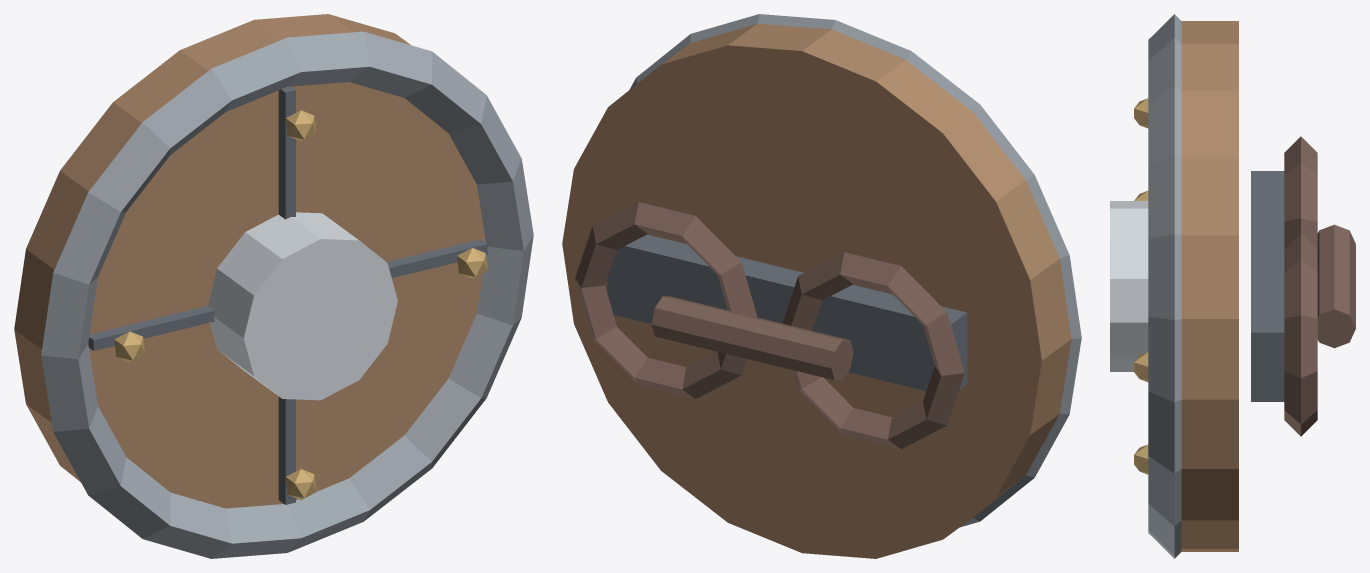
File: round_shield.glb
3 renders of one model, left to right at view 1: azimuth 30°, elevation 25°; view 2: azimuth 150°, elevation 25°; view 3: azimuth 270°, elevation 25°, orthographic. The views are drawn at different scales.
Visible parts, largest first — view 1: ShieldBody, IronRim, CentralBoss, PlankSeam_0, PlankSeam_1, Rivet_3.003, Rivet_0.025, Rivet_2.003, Rivet_1.025; view 2: ShieldBody, BackReinforcement, BackStrap_-0.24, BackStrap_0.24, HandGrip, IronRim; view 3: ShieldBody, IronRim, BackReinforcement, CentralBoss, BackStrap_0.24, HandGrip, BackStrap_-0.24, Rivet_1.025, Rivet_2.003, Rivet_3.003.
Part boxes in pixels (<box>): ShieldBody: <box>14,14,485,508</box>; IronRim: <box>41,31,533,558</box>; CentralBoss: <box>208,212,397,400</box>; PlankSeam_0: <box>278,86,295,504</box>; PlankSeam_1: <box>88,239,487,350</box>; Rivet_3.003: <box>285,110,316,141</box>; Rivet_0.025: <box>114,331,144,362</box>; Rivet_2.003: <box>285,469,316,499</box>; Rivet_1.025: <box>457,248,487,278</box>; ShieldBody: <box>562,23,1071,558</box>; BackReinforcement: <box>607,234,967,390</box>; BackStrap_-0.24: <box>782,252,964,449</box>; BackStrap_0.24: <box>575,202,757,398</box>; HandGrip: <box>651,296,853,380</box>; IronRim: <box>629,14,1081,527</box>; ShieldBody: <box>1181,21,1238,551</box>; IronRim: <box>1148,14,1181,558</box>; BackReinforcement: <box>1251,171,1284,401</box>; CentralBoss: <box>1110,201,1148,371</box>; BackStrap_0.24: <box>1284,233,1317,436</box>; HandGrip: <box>1317,224,1355,348</box>; BackStrap_-0.24: <box>1284,136,1317,248</box>; Rivet_1.025: <box>1134,352,1148,381</box>; Rivet_2.003: <box>1134,444,1148,474</box>; Rivet_3.003: <box>1134,98,1148,128</box>.
Bounding box in the file's own units: 1.15 × 1.15 × 0.515.
